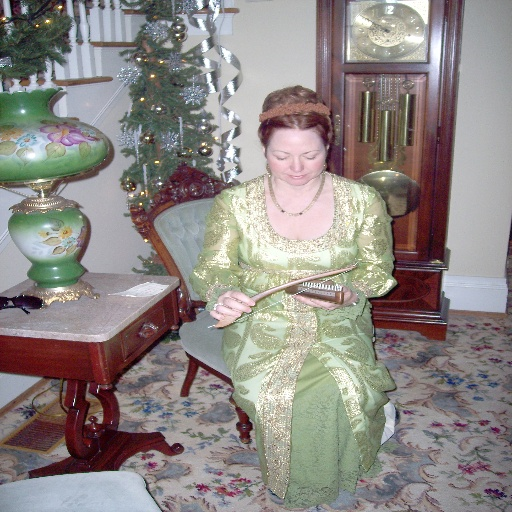hand: (287, 279, 357, 312), (206, 289, 262, 328)
